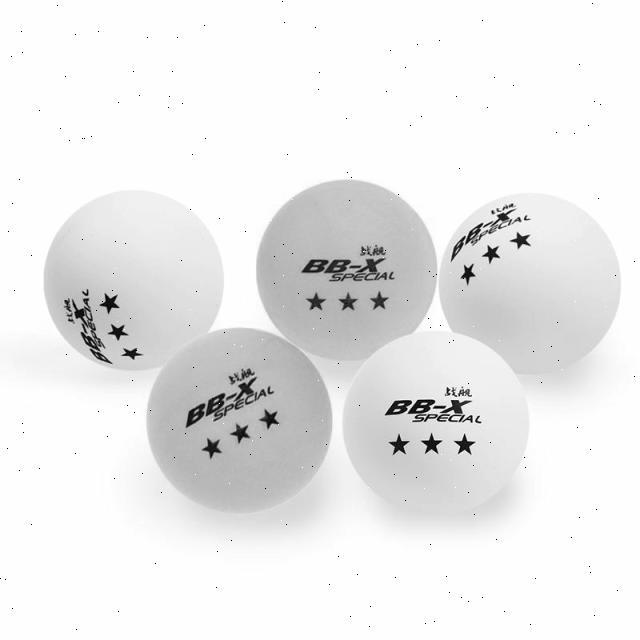ping-pong-ball: (338, 323, 544, 524), (434, 182, 628, 384), (143, 323, 335, 519), (251, 174, 444, 368), (38, 184, 228, 374)
